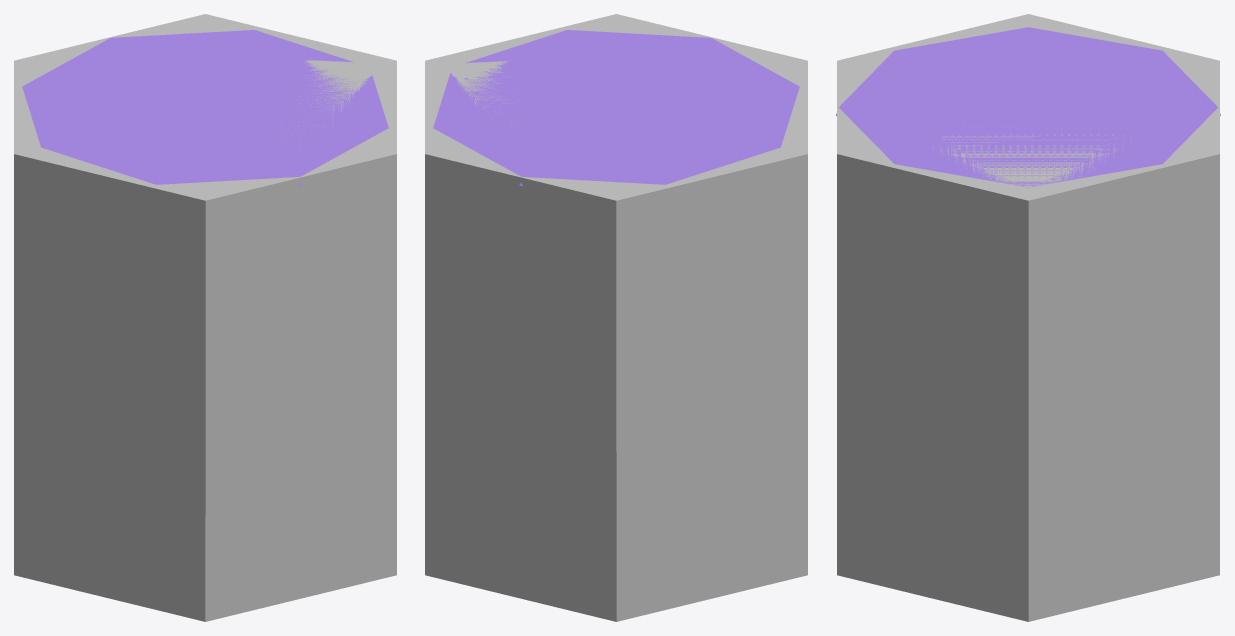
The model's file is SM_Chairs_01.fbx.
3 views of the same model, side by side, from view 1: azimuth 30°, elevation 25°; view 2: azimuth 150°, elevation 25°; view 3: azimuth 270°, elevation 25° (orthographic).
Parts seen in each view (by area): view 1: SM_Chairs_01_ConvexHulls, SM_Chairs_01; view 2: SM_Chairs_01_ConvexHulls, SM_Chairs_01; view 3: SM_Chairs_01_ConvexHulls, SM_Chairs_01.
Part boxes in pixels (x1,y1,x2,y2): SM_Chairs_01_ConvexHulls: (14,14,396,621); SM_Chairs_01: (22,30,388,185); SM_Chairs_01_ConvexHulls: (425,14,807,621); SM_Chairs_01: (433,30,799,185); SM_Chairs_01_ConvexHulls: (837,14,1219,621); SM_Chairs_01: (836,27,1220,187).
Size of the model in its own units: 73.01 by 63.59 by 76.78.
